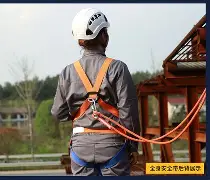safety belt: (61, 61, 134, 171)
